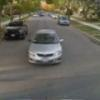cars: (28, 29, 64, 64)
